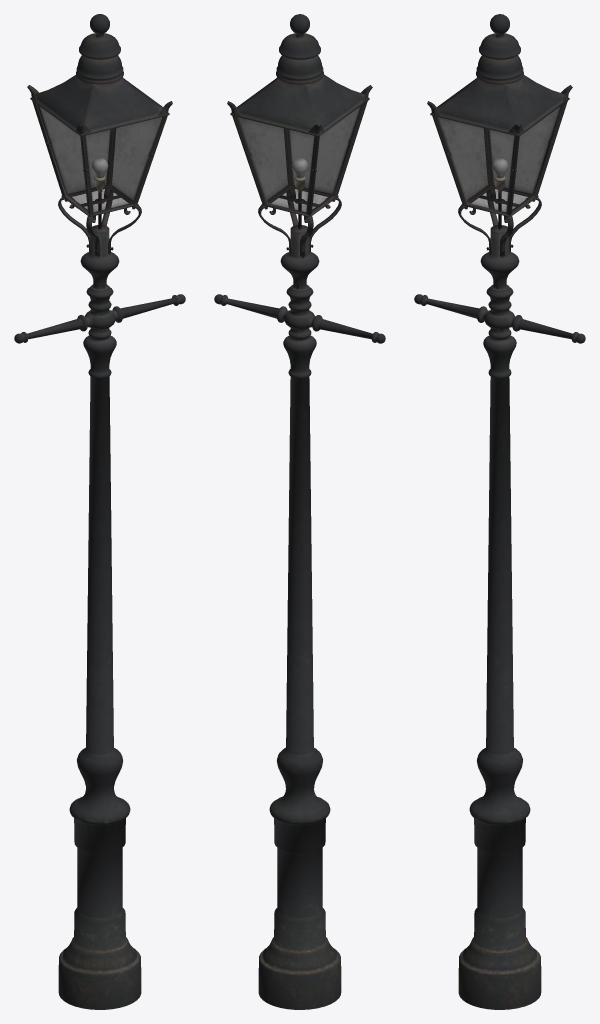
File: street_lamp_01.glb
3 views of the same model, side by side, from view 1: azimuth 30°, elevation 25°; view 2: azimuth 150°, elevation 25°; view 3: azimuth 330°, elevation 25° (orthographic).
Parts seen in each view (by area): view 1: street_lamp_01; view 2: street_lamp_01; view 3: street_lamp_01.
Boxes of the visible parts, <box> form: street_lamp_01: <box>14,14,185,1009</box>; street_lamp_01: <box>214,14,385,1009</box>; street_lamp_01: <box>414,14,585,1009</box>.
Bounding box in the file's own units: 0.7043 × 3.87 × 0.3866.
Materials: 3 (3 with a texture image).
